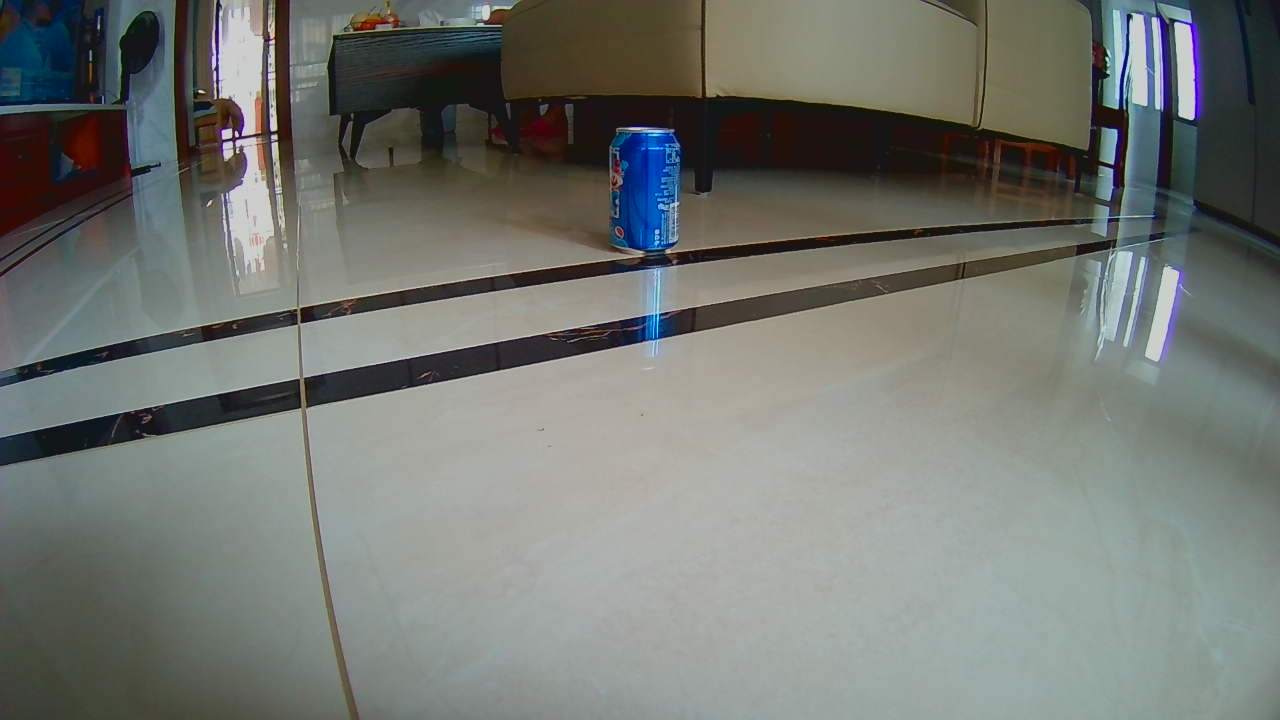pessi: (611, 127, 679, 251)
